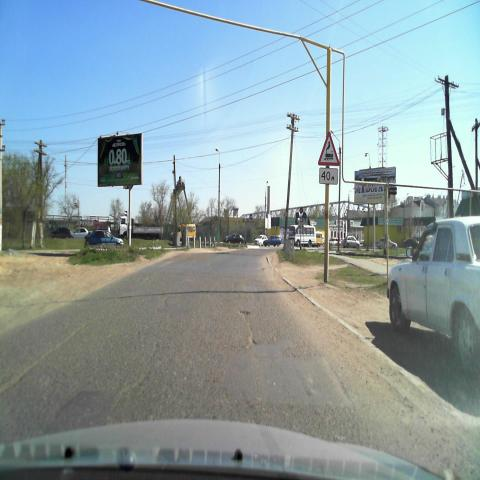1_2: (317, 131, 340, 167)
